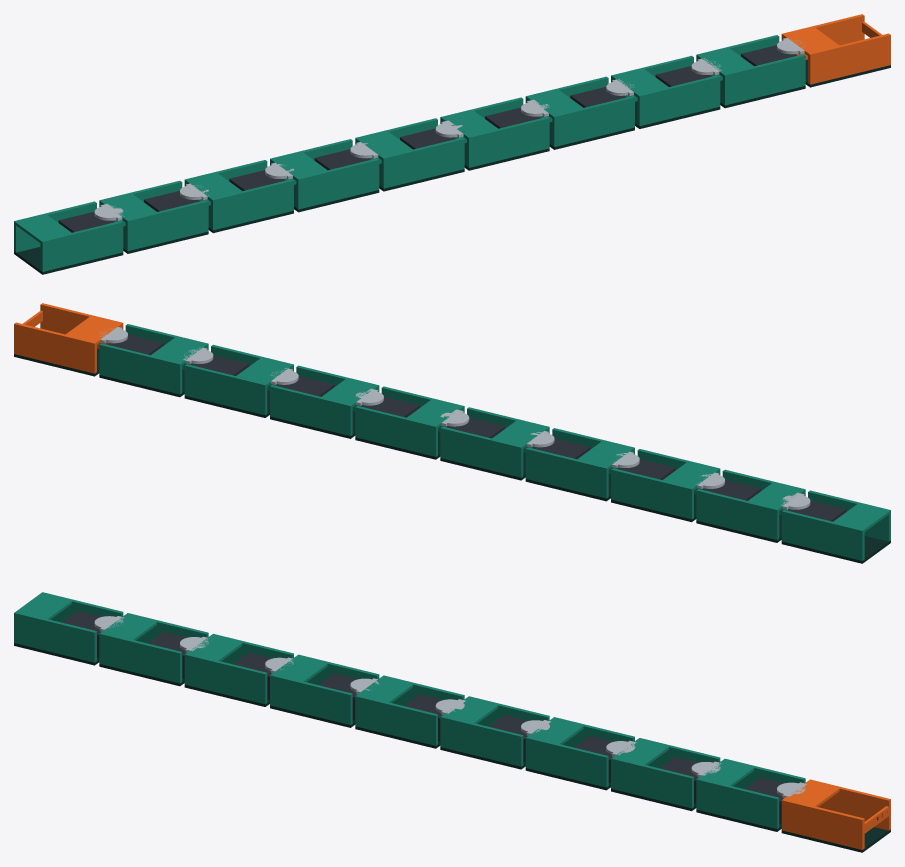
Rendered from robot-snake.glb.
3 renders of one model, top to bottom at view 1: azimuth 30°, elevation 25°; view 2: azimuth 150°, elevation 25°; view 3: azimuth 330°, elevation 25°, orthographic.
Visible parts, largest first — view 1: side_rail:right (×10), rear_deck (×10), side_rail:left (×10), bottom_skid, st3215_reference_envelope:joint_09, st3215_reference_envelope:joint_04, st3215_reference_envelope:joint_06, st3215_reference_envelope:joint_07, st3215_reference_envelope:joint_03, st3215_reference_envelope:joint_05, st3215_reference_envelope:joint_01, st3215_reference_envelope:joint_08 (+1 smaller); view 2: side_rail:left (×10), rear_deck (×10), side_rail:right (×10), bottom_skid, st3215_reference_envelope:joint_09, st3215_reference_envelope:joint_04, st3215_reference_envelope:joint_06, st3215_reference_envelope:joint_07, st3215_reference_envelope:joint_03, st3215_reference_envelope:joint_05, st3215_reference_envelope:joint_01, st3215_reference_envelope:joint_08 (+1 smaller); view 3: side_rail:right (×10), side_rail:left (×10), rear_deck (×10), bottom_skid, st3215_reference_envelope:joint_06, st3215_reference_envelope:joint_07, st3215_reference_envelope:joint_03, st3215_reference_envelope:joint_09, st3215_reference_envelope:joint_04, st3215_reference_envelope:joint_01, st3215_reference_envelope:joint_05, st3215_reference_envelope:joint_08 (+1 smaller).
Part boxes in pixels (<box>): side_rail:right (×10): <box>40,33,890,271</box>; rear_deck (×10): <box>16,28,839,242</box>; side_rail:left (×10): <box>14,14,864,252</box>; bottom_skid: <box>14,247,123,274</box>; st3215_reference_envelope:joint_09: <box>58,211,114,232</box>; st3215_reference_envelope:joint_04: <box>485,107,541,128</box>; st3215_reference_envelope:joint_06: <box>314,149,370,170</box>; st3215_reference_envelope:joint_07: <box>229,170,285,190</box>; st3215_reference_envelope:joint_03: <box>570,87,626,107</box>; st3215_reference_envelope:joint_05: <box>400,128,455,149</box>; st3215_reference_envelope:joint_01: <box>741,45,797,66</box>; st3215_reference_envelope:joint_08: <box>144,191,200,211</box>; side_rail:left (×10): <box>14,322,864,560</box>; rear_deck (×10): <box>65,317,888,531</box>; side_rail:right (×10): <box>40,303,890,541</box>; bottom_skid: <box>781,536,890,563</box>; st3215_reference_envelope:joint_09: <box>790,500,846,521</box>; st3215_reference_envelope:joint_04: <box>363,396,419,417</box>; st3215_reference_envelope:joint_06: <box>534,438,590,459</box>; st3215_reference_envelope:joint_07: <box>619,459,675,479</box>; st3215_reference_envelope:joint_03: <box>278,376,334,396</box>; st3215_reference_envelope:joint_05: <box>449,417,504,438</box>; st3215_reference_envelope:joint_01: <box>107,334,163,355</box>; st3215_reference_envelope:joint_08: <box>704,480,760,500</box>; side_rail:right (×10): <box>14,611,864,849</box>; side_rail:left (×10): <box>41,592,890,830</box>; rear_deck (×10): <box>16,593,839,806</box>; bottom_skid: <box>781,827,890,852</box>; st3215_reference_envelope:joint_06: <box>318,673,357,720</box>; st3215_reference_envelope:joint_07: <box>233,652,272,699</box>; st3215_reference_envelope:joint_03: <box>574,736,613,783</box>; st3215_reference_envelope:joint_09: <box>62,611,101,658</box>; st3215_reference_envelope:joint_04: <box>489,715,528,762</box>; st3215_reference_envelope:joint_01: <box>745,777,783,824</box>; st3215_reference_envelope:joint_05: <box>404,694,442,741</box>; st3215_reference_envelope:joint_08: <box>148,631,186,678</box>.
Size of the model in its own units: 0.945 by 0.035 by 0.055.
